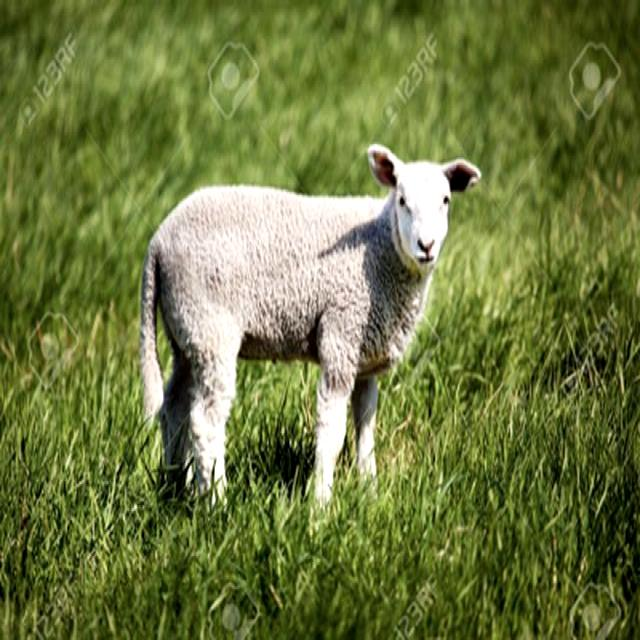sheep: (138, 147, 483, 509)
